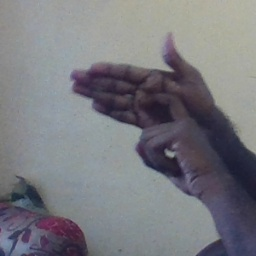R: (70, 26, 214, 186)
